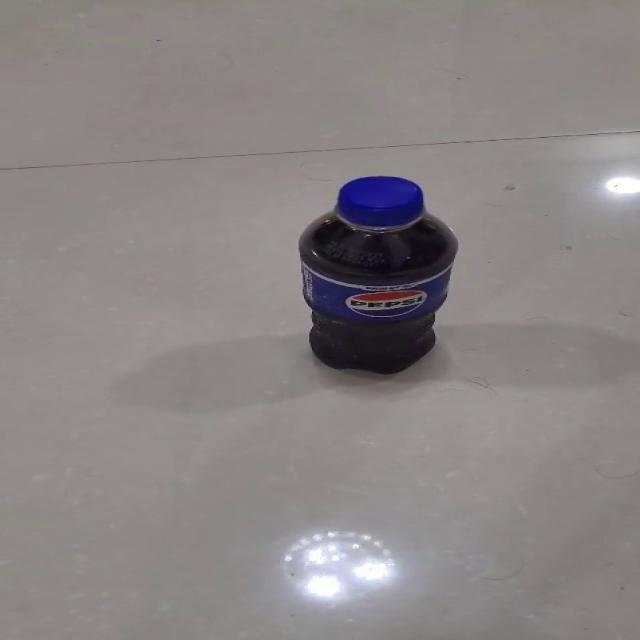plastic: (296, 175, 458, 375)
